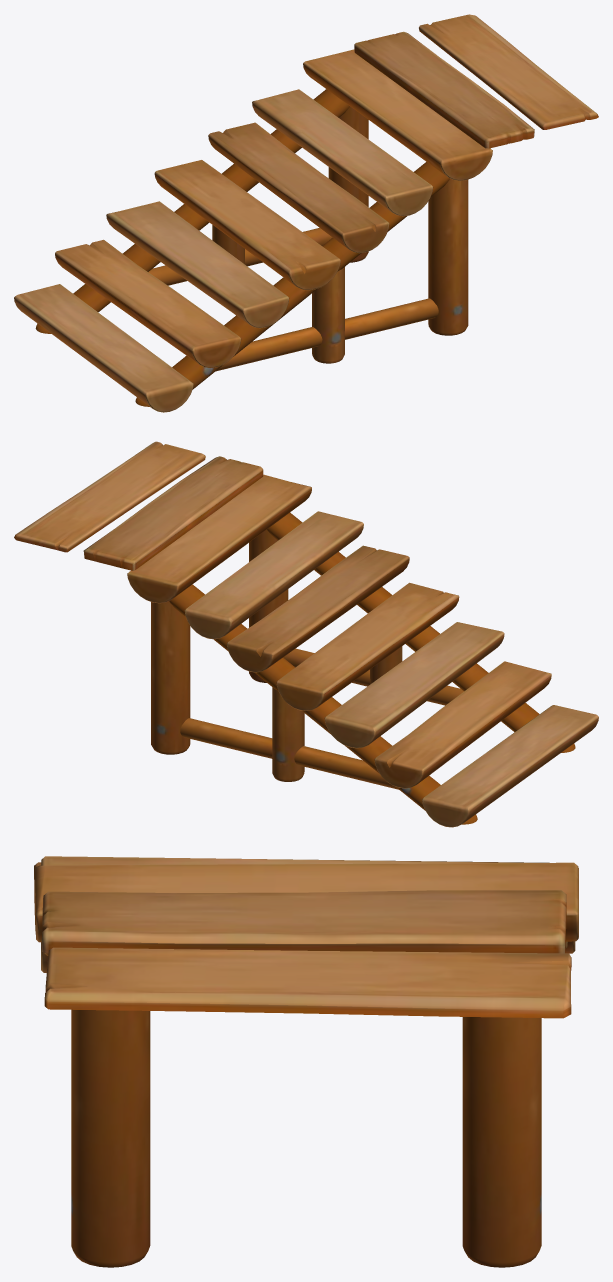
File: stairs-wood-stair.glb
The picture shows the model from 3 angles, top to bottom: view 1: azimuth 30°, elevation 25°; view 2: azimuth 150°, elevation 25°; view 3: azimuth 270°, elevation 25°; orthographic projection. The views are drawn at different scales.
Bounding box in the file's own units: 37.6 × 15.15 × 19.49.
Materials: 1 (1 with a texture image).
